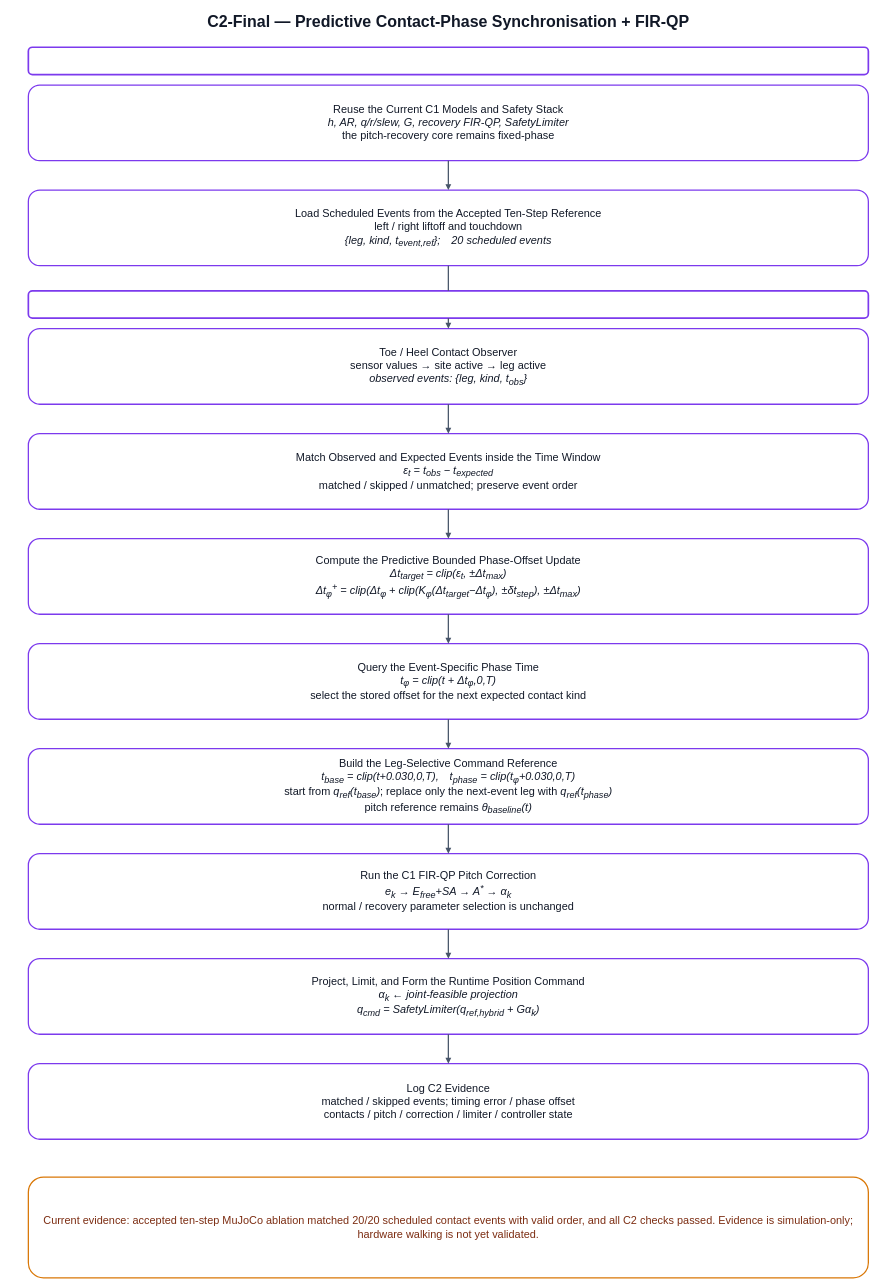
Some shapes in this 896 by 1286 pixel diagram are drawn without their labels. The shapes that lost their labels are listed below. From the top down, each one's centre as x and y in pixels, then its label:
the point at 448,60: Reference and Contact-Event Preparation
the point at 448,304: Predictive Phase Alignment + C1 FIR-QP
